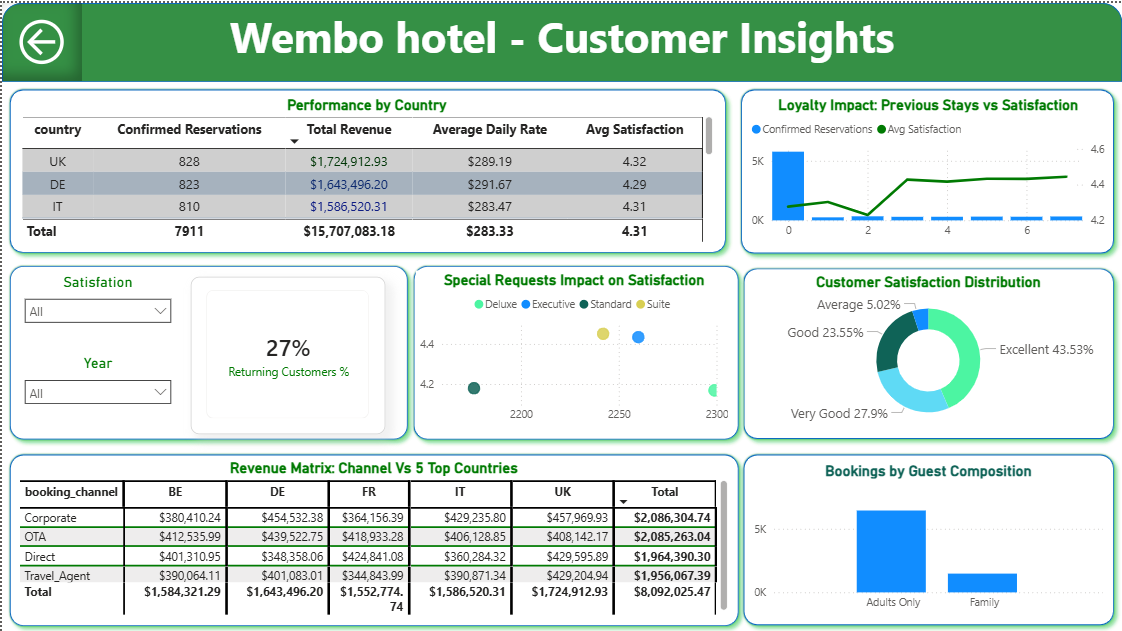

This screenshot's page, from the dashboard's own definition file:
{"tool":"powerbi","page":{"name":"Customer Insights","canvas":[1280,720],"ordinal":3},"visuals":[{"type":"shape","box":[0,0,1280.3,90],"z":0},{"type":"shape","box":[0,507.5,850.9,214],"z":1000},{"type":"shape","box":[0,90.4,836.2,204.5],"z":2000},{"type":"shape","box":[835.9,89.6,444.1,205.3],"z":3000},{"type":"shape","box":[839,295,441,212.9],"z":4000},{"type":"shape","box":[461.5,291.1,389.4,216.4],"z":5000},{"type":"shape","box":[839,507.8,441,212.9],"z":6000},{"type":"textbox","box":[0,0,1280,90.4],"z":7000},{"type":"tableEx","title":"Performance by Country","fields":{"Values":["hotel_bookings_records.country","hotel_bookings_records.Confirmed Reservations","hotel_bookings_records.Total Revenue","hotel_bookings_records.Average Daily Rate","hotel_bookings_records.Avg Satisfaction"]},"box":[16.7,105.7,800,172.5],"z":8000},{"type":"lineStackedColumnComboChart","title":"Loyalty Impact: Previous Stays vs Satisfaction","fields":{"Y2":["hotel_bookings_records.Avg Satisfaction"],"Category":["hotel_bookings_records.previous_stays"],"Y":["hotel_bookings_records.Confirmed Reservations"]},"box":[850.9,105.7,414.2,172.9],"z":9000},{"type":"donutChart","title":"Customer Satisfaction Distribution","fields":{"Category":["hotel_bookings_records.satisfaction_segment"],"Y":["hotel_bookings_records.Confirmed Reservations"]},"box":[854.3,308.9,409,180.9],"z":10000},{"type":"scatterChart","title":"Special Requests Impact on Satisfaction","fields":{"X":["Sum(hotel_bookings_records.special_requests)"],"Y":["hotel_bookings_records.Avg Satisfaction"],"Series":["hotel_bookings_records.room_type"],"Size":["hotel_bookings_records.Confirmed Reservations"]},"box":[472.7,306,362,182.9],"z":11000},{"type":"clusteredColumnChart","title":"Bookings by Guest Composition","fields":{"Category":["hotel_bookings_records.Guest_Composition"],"Y":["hotel_bookings_records.Confirmed Reservations"]},"box":[854.3,524.5,409,179.5],"z":12000},{"type":"pivotTable","title":"Revenue Matrix: Channel Vs 5 Top Countries","fields":{"Rows":["hotel_bookings_records.booking_channel"],"Columns":["hotel_bookings_records.country"],"Values":["hotel_bookings_records.Total Revenue"]},"box":[16.2,521.2,818.5,182.9],"z":13000},{"type":"shape","box":[0,291.1,472.7,216.4],"z":14000},{"type":"slicer","title":"Year","fields":{"Values":["Calendar.Year"]},"box":[136.8,306,129.4,67.2],"z":15000},{"type":"slicer","title":"Satisfation","fields":{"Values":["hotel_bookings_records.satisfaction_segment"]},"box":[16.2,306,120.7,69.7],"z":16000},{"type":"slicer","title":"Previous stays","fields":{"Values":["hotel_bookings_records.previous_stays"]},"box":[17.4,384.4,238.8,95.8],"z":17000},{"type":"cardVisual","title":"Returning cunstomers","fields":{"Data":["hotel_bookings_records.Returning Customers %"]},"box":[256.3,317.2,197.8,171.7],"z":18000},{"type":"actionButton","box":[0,0,92.1,89.6],"z":18002}]}

Visuals, with their boxes in screenshot pixels (x1, y1, x2, y2), scaled from the page's 1280x720 canvas onto the 1122x631 screenshot:
shape: {"x1": 0, "y1": 0, "x2": 1121, "y2": 79}
shape: {"x1": 0, "y1": 445, "x2": 746, "y2": 630}
shape: {"x1": 0, "y1": 79, "x2": 733, "y2": 258}
shape: {"x1": 733, "y1": 79, "x2": 1121, "y2": 258}
shape: {"x1": 735, "y1": 259, "x2": 1121, "y2": 445}
shape: {"x1": 405, "y1": 255, "x2": 746, "y2": 445}
shape: {"x1": 735, "y1": 445, "x2": 1121, "y2": 630}
textbox: {"x1": 0, "y1": 0, "x2": 1121, "y2": 79}
"Performance by Country" tableEx: {"x1": 15, "y1": 93, "x2": 716, "y2": 244}
"Loyalty Impact: Previous Stays vs Satisfaction" lineStackedColumnComboChart: {"x1": 746, "y1": 93, "x2": 1109, "y2": 244}
"Customer Satisfaction Distribution" donutChart: {"x1": 749, "y1": 271, "x2": 1107, "y2": 429}
"Special Requests Impact on Satisfaction" scatterChart: {"x1": 414, "y1": 268, "x2": 732, "y2": 428}
"Bookings by Guest Composition" clusteredColumnChart: {"x1": 749, "y1": 460, "x2": 1107, "y2": 617}
"Revenue Matrix: Channel Vs 5 Top Countries" pivotTable: {"x1": 14, "y1": 457, "x2": 732, "y2": 617}
shape: {"x1": 0, "y1": 255, "x2": 414, "y2": 445}
"Year" slicer: {"x1": 120, "y1": 268, "x2": 233, "y2": 327}
"Satisfation" slicer: {"x1": 14, "y1": 268, "x2": 120, "y2": 329}
"Previous stays" slicer: {"x1": 15, "y1": 337, "x2": 225, "y2": 421}
"Returning cunstomers" cardVisual: {"x1": 225, "y1": 278, "x2": 398, "y2": 428}
actionButton: {"x1": 0, "y1": 0, "x2": 81, "y2": 79}
